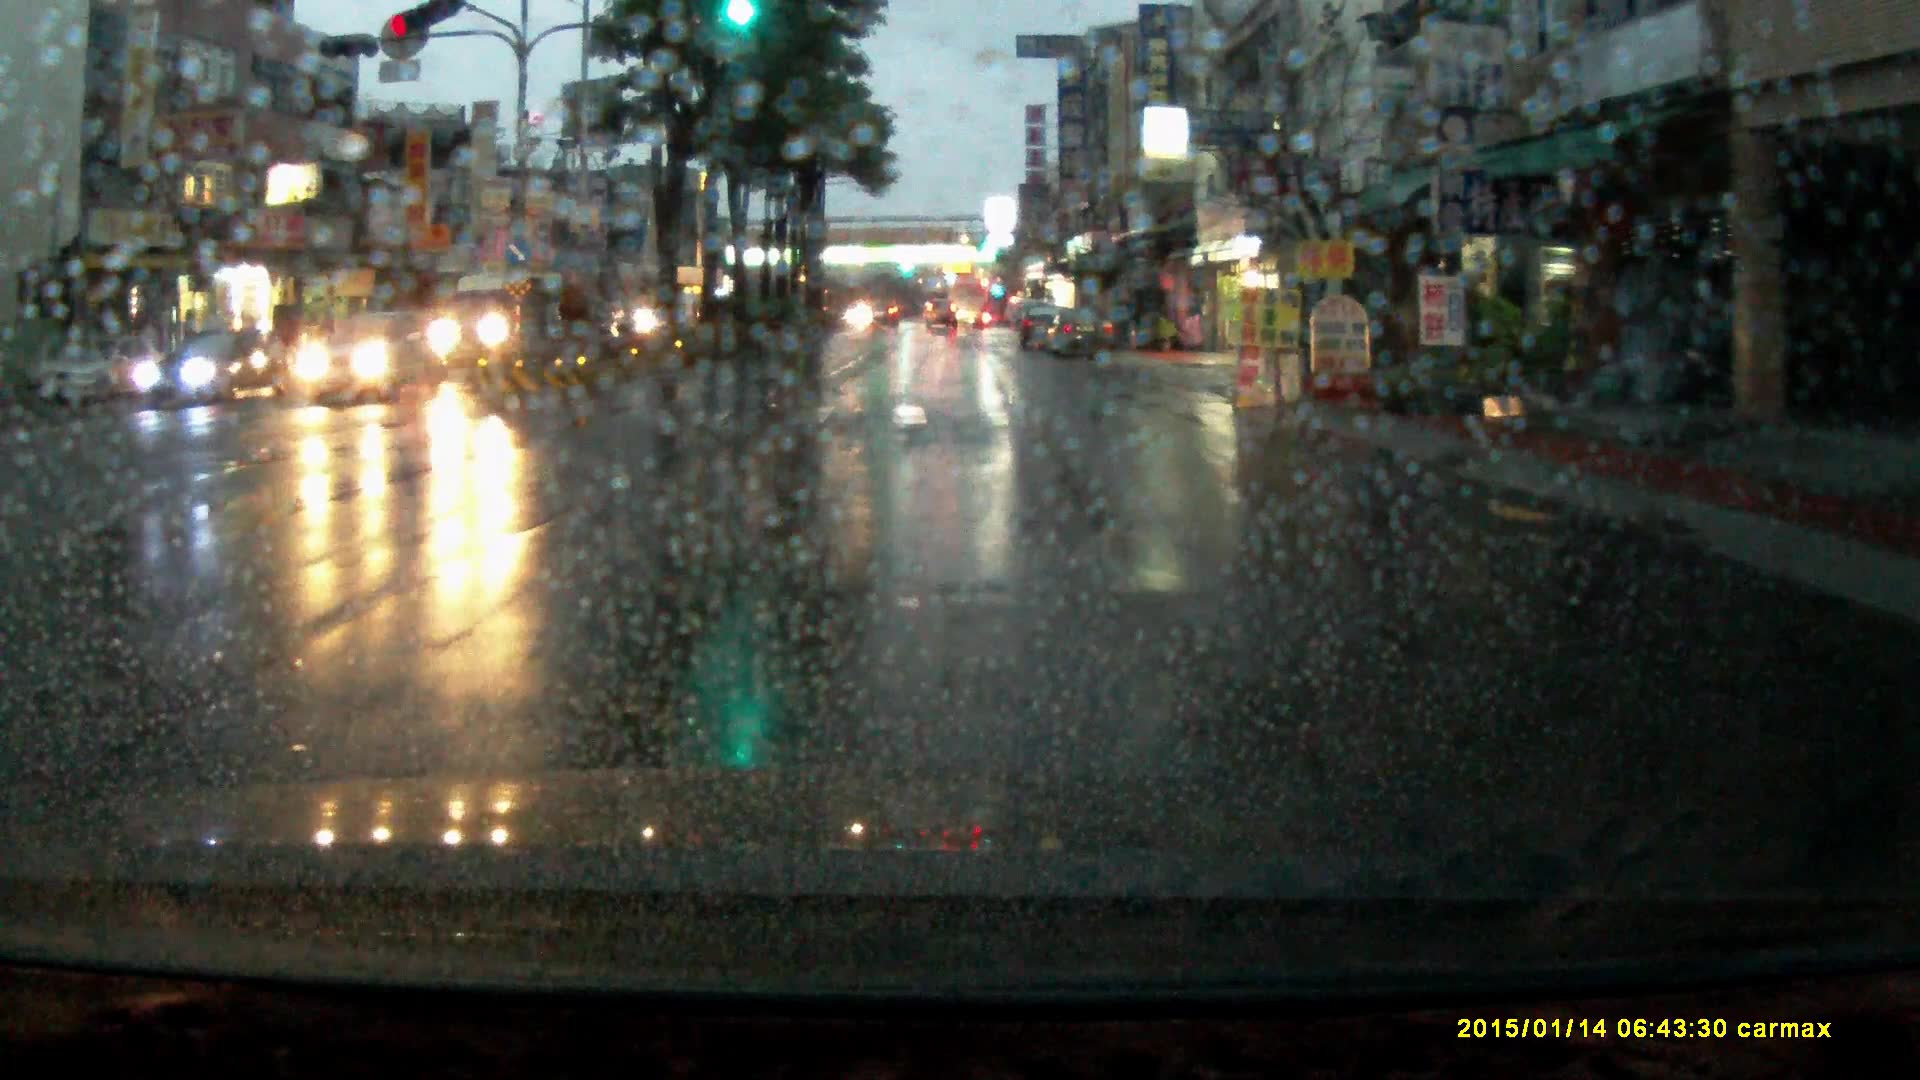vehicle: (433, 269, 562, 381), (297, 316, 440, 411), (125, 328, 278, 409), (37, 334, 174, 407), (1046, 307, 1118, 357), (1017, 305, 1065, 352), (949, 276, 988, 331), (926, 298, 959, 334), (862, 297, 899, 328)
